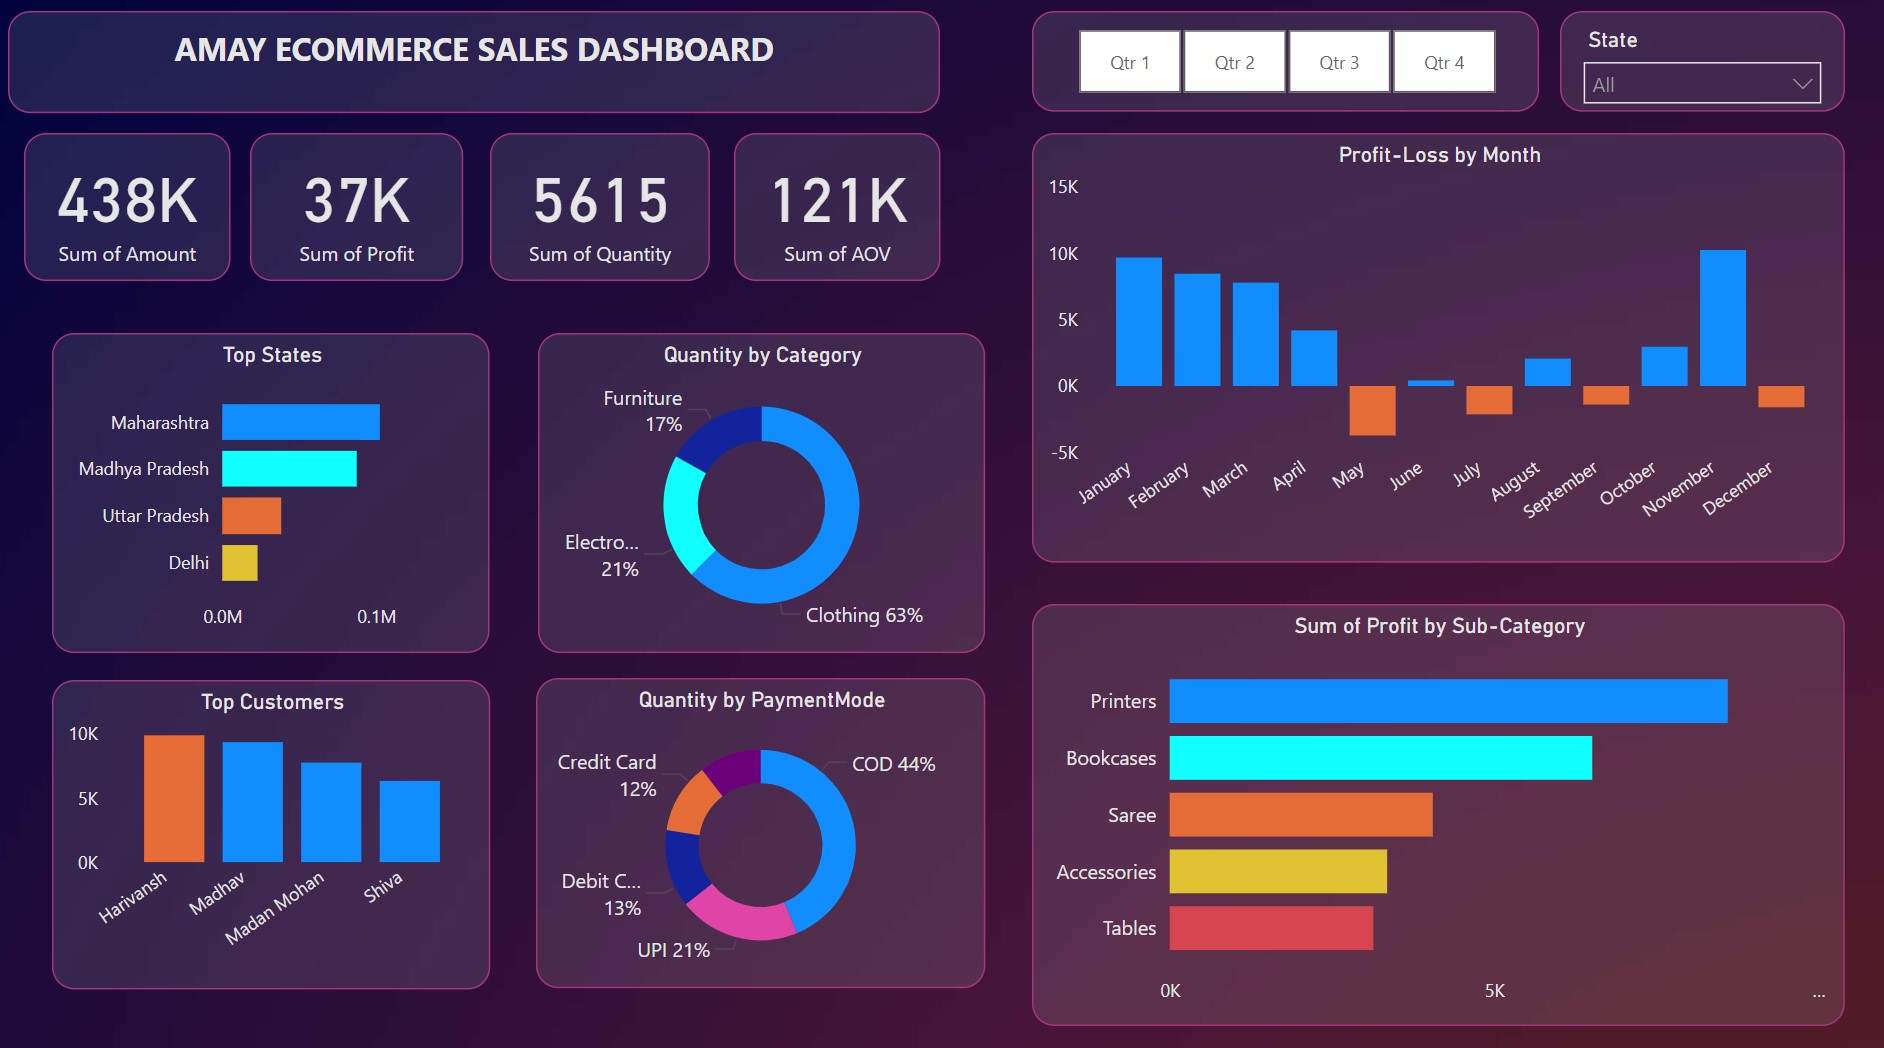

The page's visual inventory and layout, read from the dashboard file:
{"tool":"powerbi","page":{"name":"Page 1","canvas":[1280,720],"ordinal":0},"visuals":[{"type":"textbox","box":[9.5,12.2,629.5,68.9],"z":0},{"type":"columnChart","title":"Profit-Loss by Month","fields":{"Y":["Details.Profit"],"Category":["Orders.Order Date.Variation.Date Hierarchy.Month"]},"box":[700.7,94,549,289.7],"z":1000},{"type":"barChart","fields":{"Category":["Details.Sub-Category"],"Y":["Details.Profit"]},"box":[700.7,412.5,549,285.1],"z":2000},{"type":"donutChart","title":"Quantity by Category","fields":{"Category":["Details.Category"],"Y":["Details.Quantity"]},"box":[367,229,301.8,215.4],"z":3000},{"type":"donutChart","title":"Quantity by PaymentMode","fields":{"Category":["Details.PaymentMode"],"Y":["Details.Quantity"]},"box":[365.5,462.6,303.3,209.3],"z":4000},{"type":"card","fields":{"Values":["Details.Amount"]},"box":[19.7,94,139.5,100.1],"z":5000},{"type":"card","fields":{"Values":["Details.Profit"]},"box":[172.9,94,144.1,100.1],"z":6000},{"type":"card","fields":{"Values":["Details.Quantity"]},"box":[335.2,94,148.6,100.1],"z":7000},{"type":"card","fields":{"Values":["Details.AOV"]},"box":[500.5,94,139.5,100.1],"z":8000},{"type":"barChart","title":"Top States","fields":{"Category":["Orders.State"],"Y":["Details.Amount"]},"box":[39.4,229,295.7,215.4],"z":9000},{"type":"columnChart","title":"Top Customers","fields":{"Category":["Orders.CustomerName"],"Y":["Details.Amount"]},"box":[39,463,296,209],"z":10000},{"type":"slicer","fields":{"Values":["Orders.Order Date.Variation.Date Hierarchy.Quarter"]},"box":[700.7,12.1,342.7,68.2],"z":11000},{"type":"slicer","fields":{"Values":["Orders.State"]},"box":[1057.1,12.1,192.6,68.2],"z":12000}]}

Visuals, with their boxes in screenshot pixels (x1, y1, x2, y2), scaled from the page's 1280x720 canvas onto the 1884x1048 screenshot:
textbox: 14:18:941:118
"Profit-Loss by Month" columnChart: 1031:137:1839:558
barChart - Details.Sub-Category x Details.Profit: 1031:600:1839:1015
"Quantity by Category" donutChart: 540:333:984:647
"Quantity by PaymentMode" donutChart: 538:673:984:978
card - Details.Amount: 29:137:234:283
card - Details.Profit: 254:137:467:283
card - Details.Quantity: 493:137:712:283
card - Details.AOV: 737:137:942:283
"Top States" barChart: 58:333:493:647
"Top Customers" columnChart: 57:674:493:978
slicer - Orders.Order Date.Variation.Date Hierarchy.Quarter: 1031:18:1536:117
slicer - Orders.State: 1556:18:1839:117
